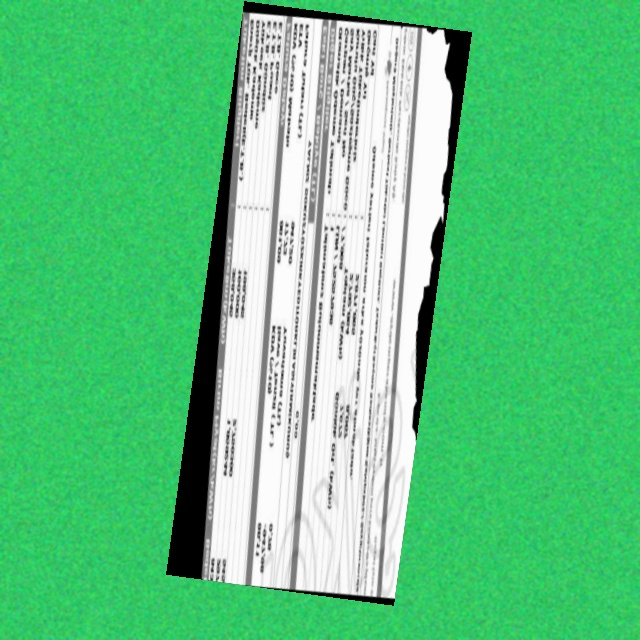electricity-bill: (165, 1, 471, 606)
